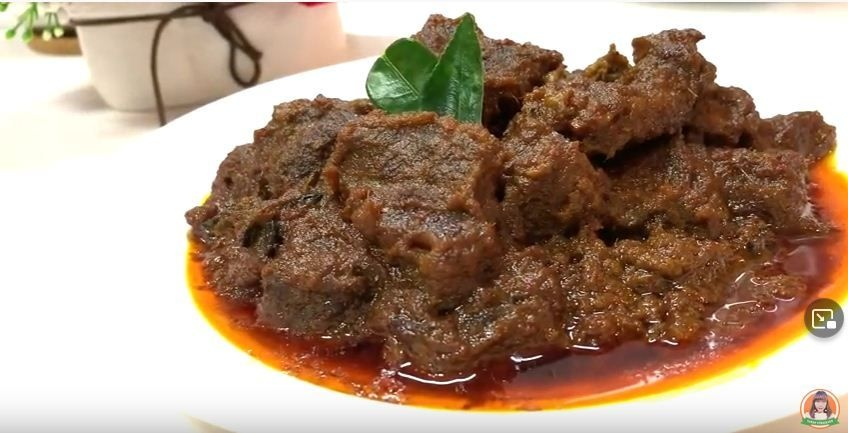rendang: (221, 30, 819, 377)
